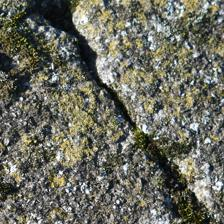Crack: (14, 2, 124, 131)
